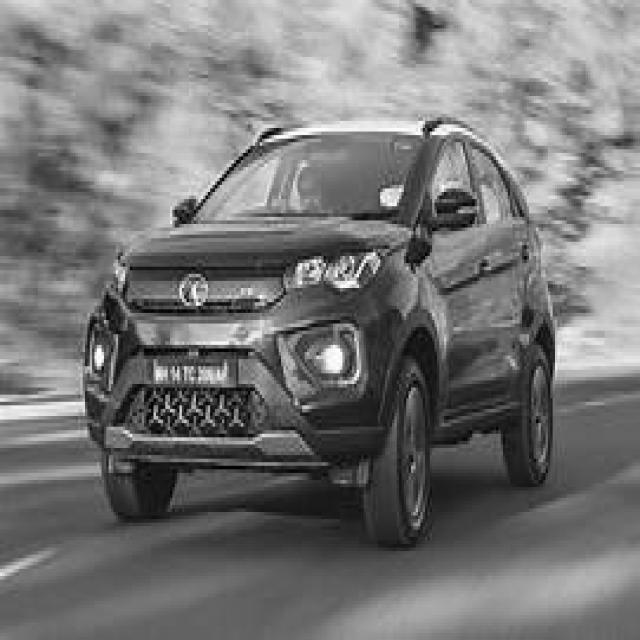Car: (86, 119, 555, 545)
